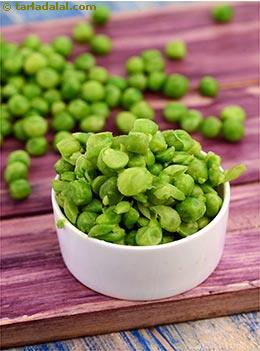boiled peas: (7, 47, 234, 141), (65, 123, 217, 231)
